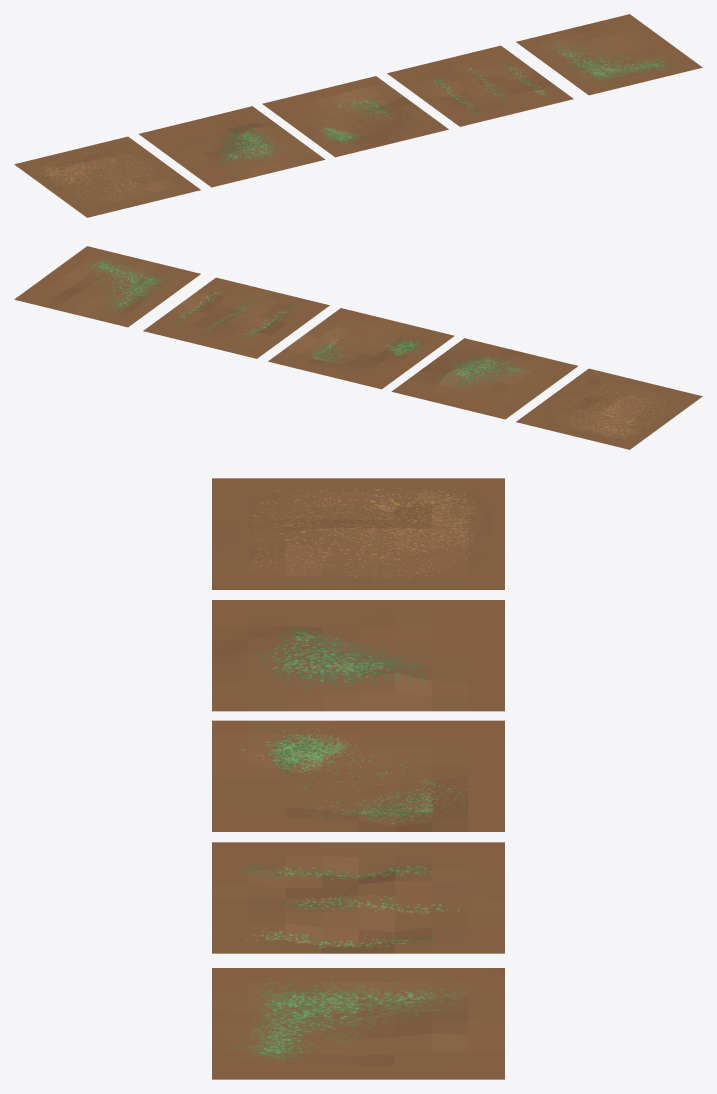
Rendered from Grounds.fbx.
3 renders of one model, top to bottom at view 1: azimuth 30°, elevation 25°; view 2: azimuth 150°, elevation 25°; view 3: azimuth 270°, elevation 25°, orthographic. The views are drawn at different scales.
Parts seen in each view (by area): view 1: Plane.008, Plane.005, Plane.007, Plane.006, Plane.004; view 2: Plane.008, Plane.005, Plane.007, Plane.004, Plane.006; view 3: Plane.008, Plane.004, Plane.005, Plane.006, Plane.007.
Part boxes in pixels (bbox=[...]): Plane.008: bbox=[14, 136, 200, 217]; Plane.005: bbox=[262, 76, 448, 157]; Plane.007: bbox=[516, 14, 702, 95]; Plane.006: bbox=[139, 106, 325, 187]; Plane.004: bbox=[387, 45, 573, 126]; Plane.008: bbox=[516, 368, 702, 449]; Plane.005: bbox=[268, 308, 454, 389]; Plane.007: bbox=[14, 246, 200, 327]; Plane.004: bbox=[143, 277, 329, 358]; Plane.006: bbox=[391, 338, 577, 419]; Plane.008: bbox=[212, 478, 504, 589]; Plane.004: bbox=[212, 842, 504, 953]; Plane.005: bbox=[212, 720, 504, 831]; Plane.006: bbox=[212, 600, 504, 711]; Plane.007: bbox=[212, 968, 504, 1079].
Bounding box in the file's own units: 19430 × 291 × 4000.
